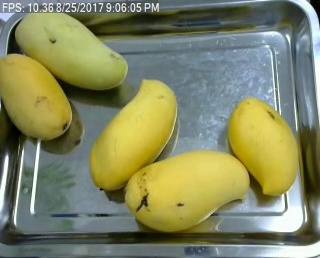Mango: (122, 149, 255, 233), (86, 77, 180, 191), (14, 8, 129, 89), (228, 95, 301, 199), (0, 50, 73, 139)
